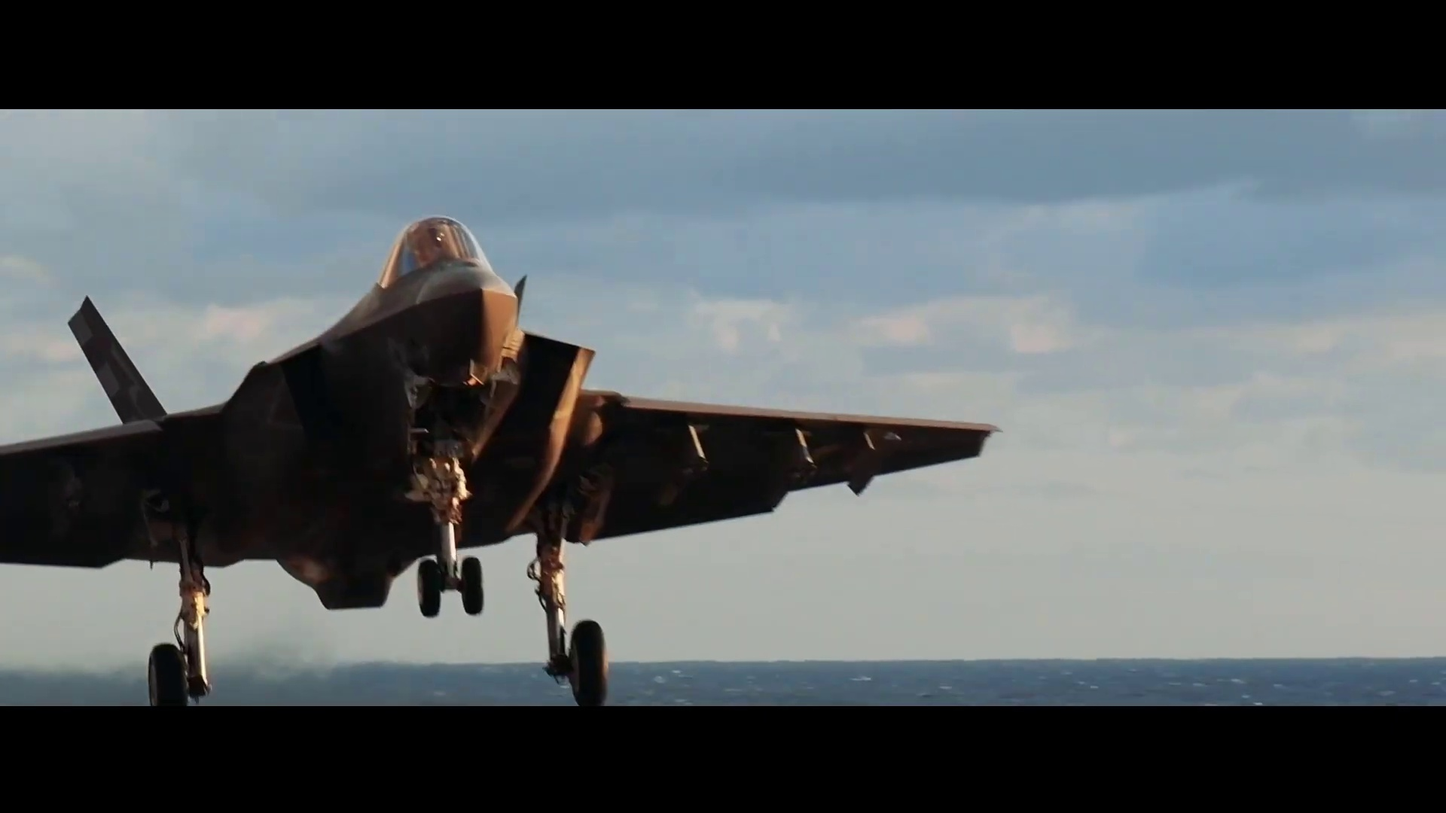F35: (6, 212, 995, 707)
